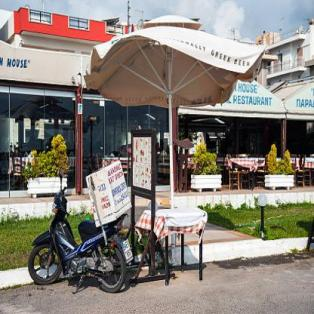Motocicleta: (24, 186, 128, 292)
